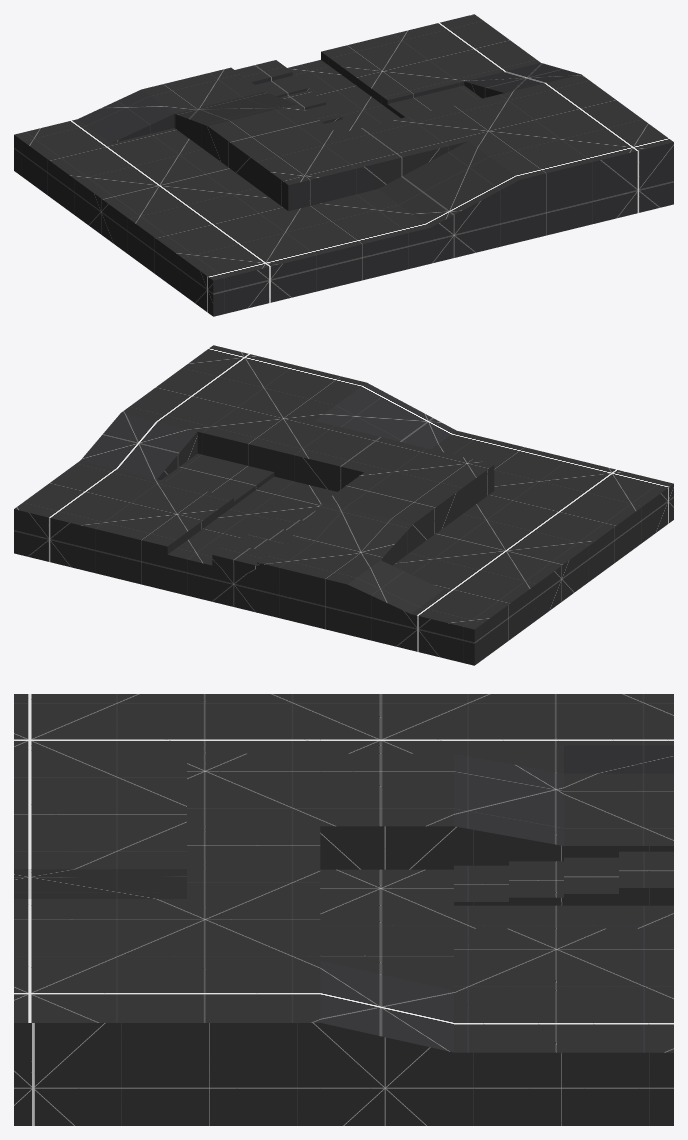
The model's file is Stage.fbx.
3 views of the same model, one above another, from view 1: azimuth 30°, elevation 25°; view 2: azimuth 150°, elevation 25°; view 3: azimuth 270°, elevation 25° (orthographic). The views are drawn at different scales.
Parts seen in each view (by area): view 1: Cube; view 2: Cube; view 3: Cube.
Boxes of the visible parts, x1,y1,x2,y2 form: Cube: [14, 14, 673, 316]; Cube: [14, 345, 673, 665]; Cube: [14, 694, 673, 1125].
Size of the model in its own units: 80 by 10.33 by 60.
1 material, 1 textured.
